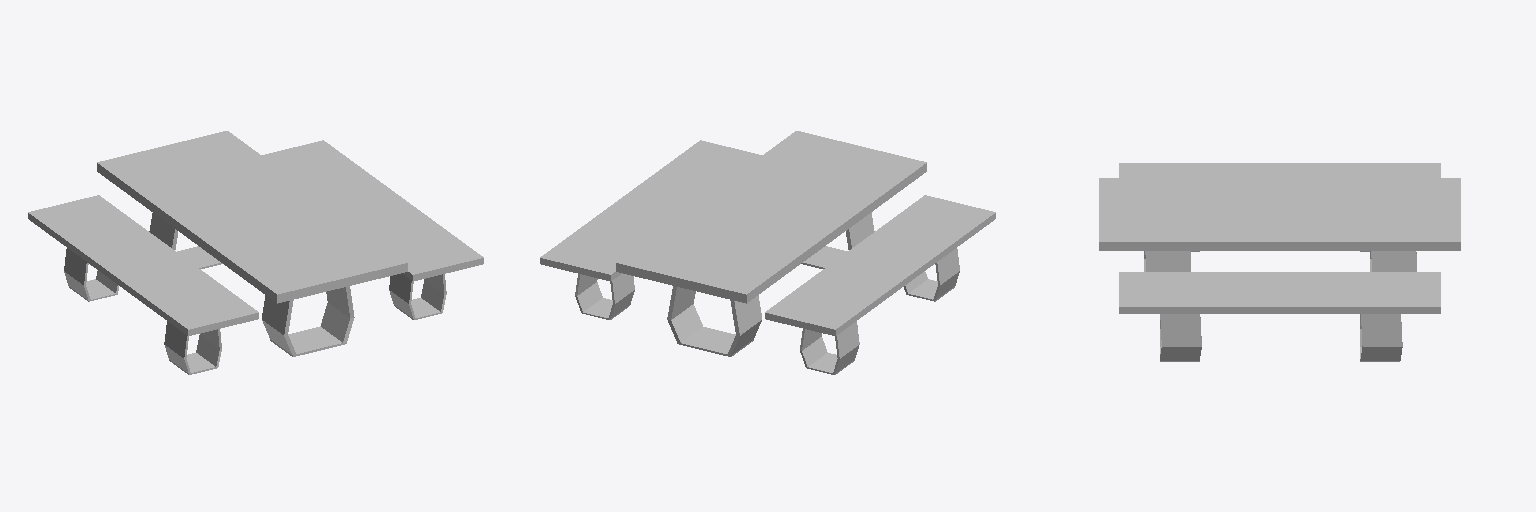
The model's file is pic.obj.
3 views of the same model, side by side, from view 1: azimuth 30°, elevation 25°; view 2: azimuth 150°, elevation 25°; view 3: azimuth 270°, elevation 25° (orthographic).
Visible parts, largest first — view 1: Plane.002; view 2: Plane.002; view 3: Plane.002.
Boxes of the visible parts, <box> form: Plane.002: <box>28,131,483,374</box>; Plane.002: <box>540,131,995,374</box>; Plane.002: <box>1099,163,1460,361</box>.
Size of the model in its own units: 885 by 253 by 936.